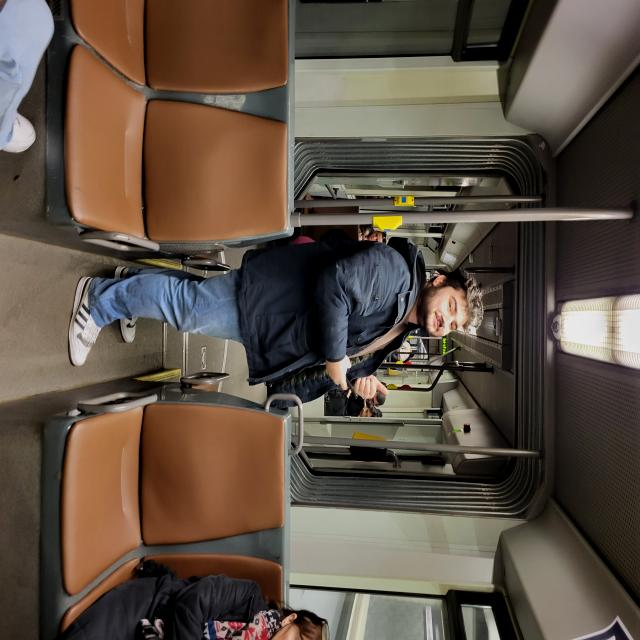asiento-libre: (233, 469, 339, 640), (462, 474, 568, 640), (160, 467, 230, 640)
